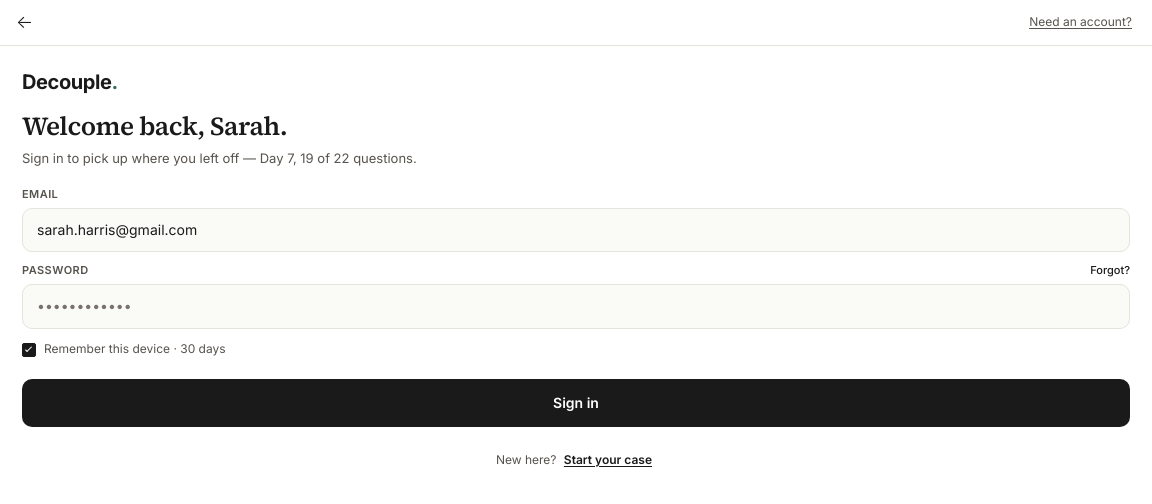
Test: proto sign-in page › empty password: announces the problem beside the field, focuses it, stays put
The width and height of the screenshot is (1152, 504).
Click the button "Sign in" at (576, 403), box [22,379,1130,427]
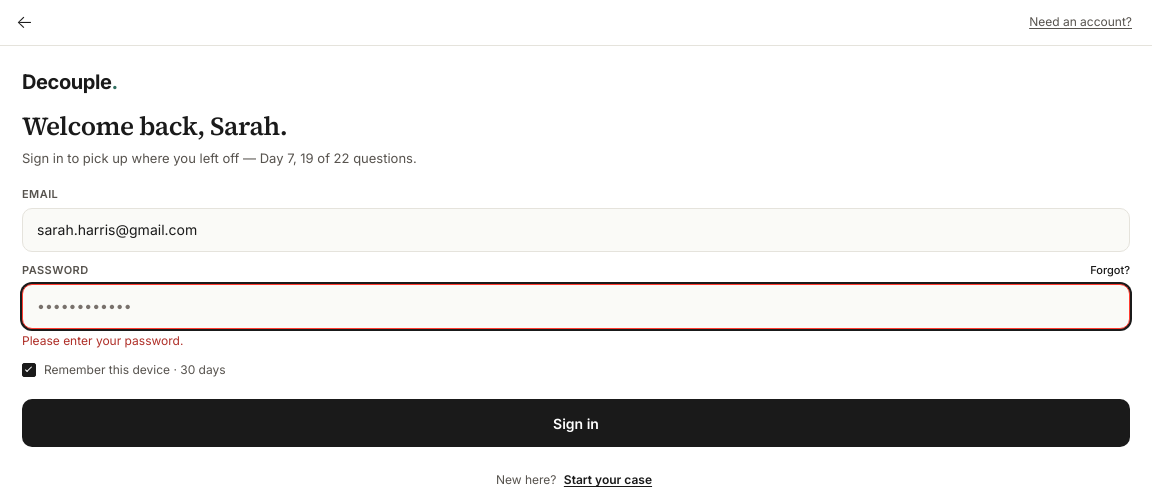
Check: the message shows "password", box [22,333,183,348]
